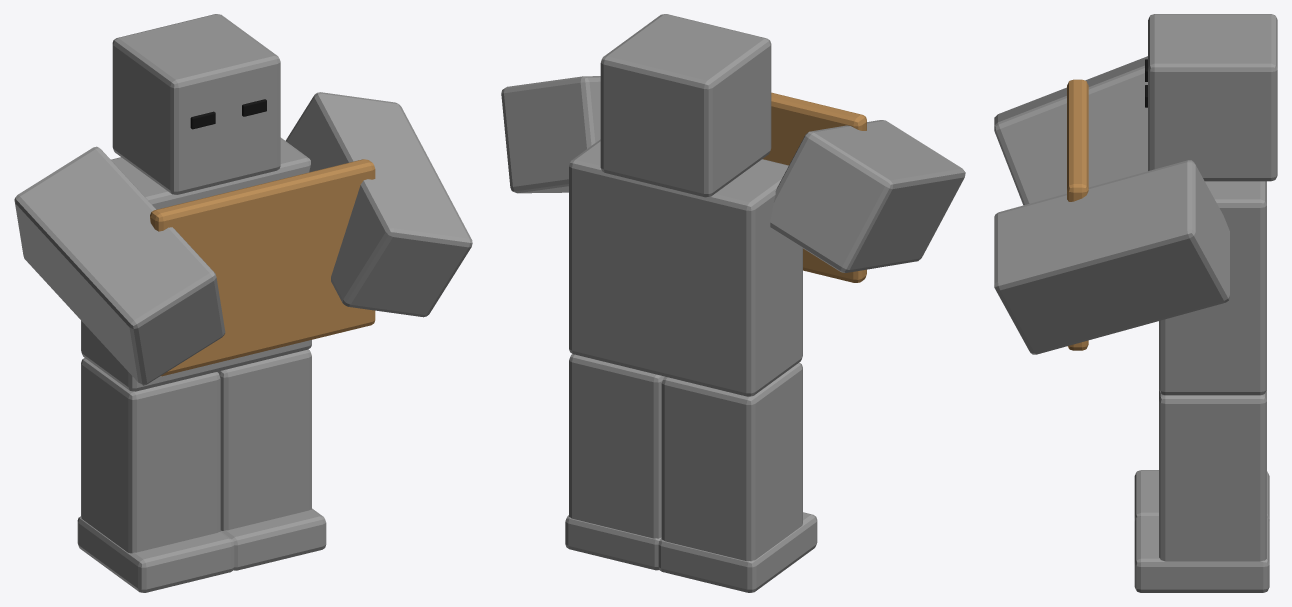
The model's file is 05_Mid.glb.
The picture shows the model from 3 angles, left to right: view 1: azimuth 30°, elevation 25°; view 2: azimuth 150°, elevation 25°; view 3: azimuth 270°, elevation 25°; orthographic projection. The views are drawn at different scales.
Visible parts, largest first — view 1: RightArm, Cardboard, Head, LeftArm, RightLeg, LeftLeg, Torso, ShoeR, ShoeL; view 2: Torso, Head, RightLeg, RightArm, LeftLeg, LeftArm, ShoeR, Cardboard, ShoeL; view 3: LeftArm, Head, LeftLeg, Torso, RightArm, ShoeL, Cardboard, ShoeR.
Part boxes in pixels (x1,y1,x2,y2): RightArm: [14, 146, 225, 385]; Cardboard: [150, 159, 375, 376]; Head: [112, 14, 280, 194]; LeftArm: [285, 92, 472, 317]; RightLeg: [81, 358, 220, 553]; LeftLeg: [217, 349, 311, 530]; Torso: [81, 137, 311, 391]; ShoeR: [77, 516, 234, 592]; ShoeL: [221, 508, 326, 570]; Torso: [569, 139, 802, 396]; Head: [600, 14, 771, 197]; RightLeg: [661, 362, 802, 561]; RightArm: [770, 120, 965, 272]; LeftLeg: [569, 354, 664, 538]; LeftArm: [501, 76, 600, 193]; ShoeR: [658, 512, 817, 592]; Cardboard: [763, 92, 866, 282]; ShoeL: [565, 515, 661, 570]; LeftArm: [994, 160, 1229, 354]; Head: [1148, 14, 1277, 181]; LeftLeg: [1159, 390, 1266, 561]; Torso: [1159, 181, 1266, 395]; RightArm: [994, 56, 1147, 205]; ShoeL: [1134, 516, 1269, 592]; Cardboard: [1067, 79, 1088, 350]; ShoeR: [1134, 470, 1269, 521].
Size of the model in its own units: 4.21 by 5.2 by 2.62.
